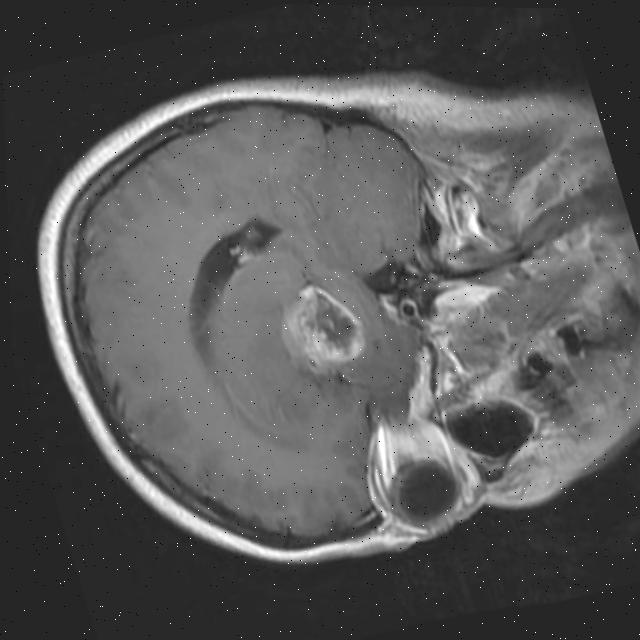Glioma: (266, 273, 371, 378)
